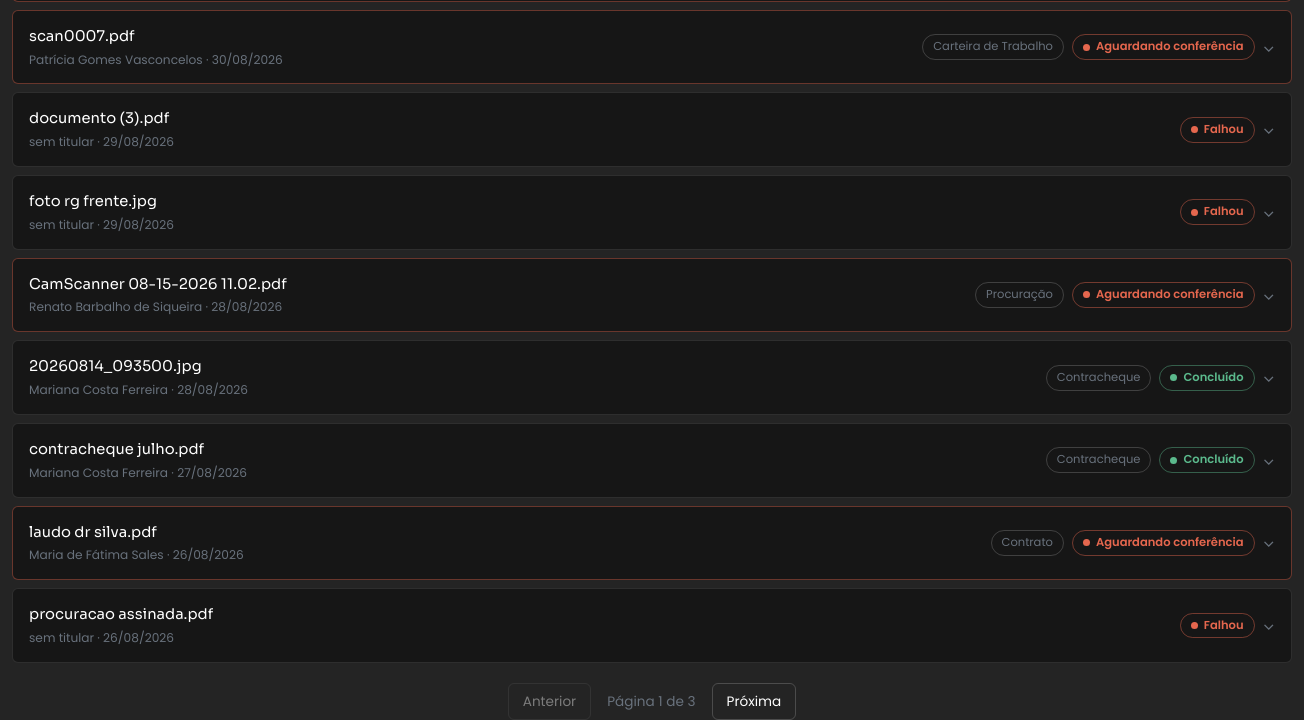
a paginação avança e volta
(page scrolled)
Expected: the text "Página 1 de 3" is shown, top-left (607, 691), bottom-right (696, 712)
Click the button "Próxima" at x=754, y=701, box top-left (712, 683), bottom-right (796, 719)
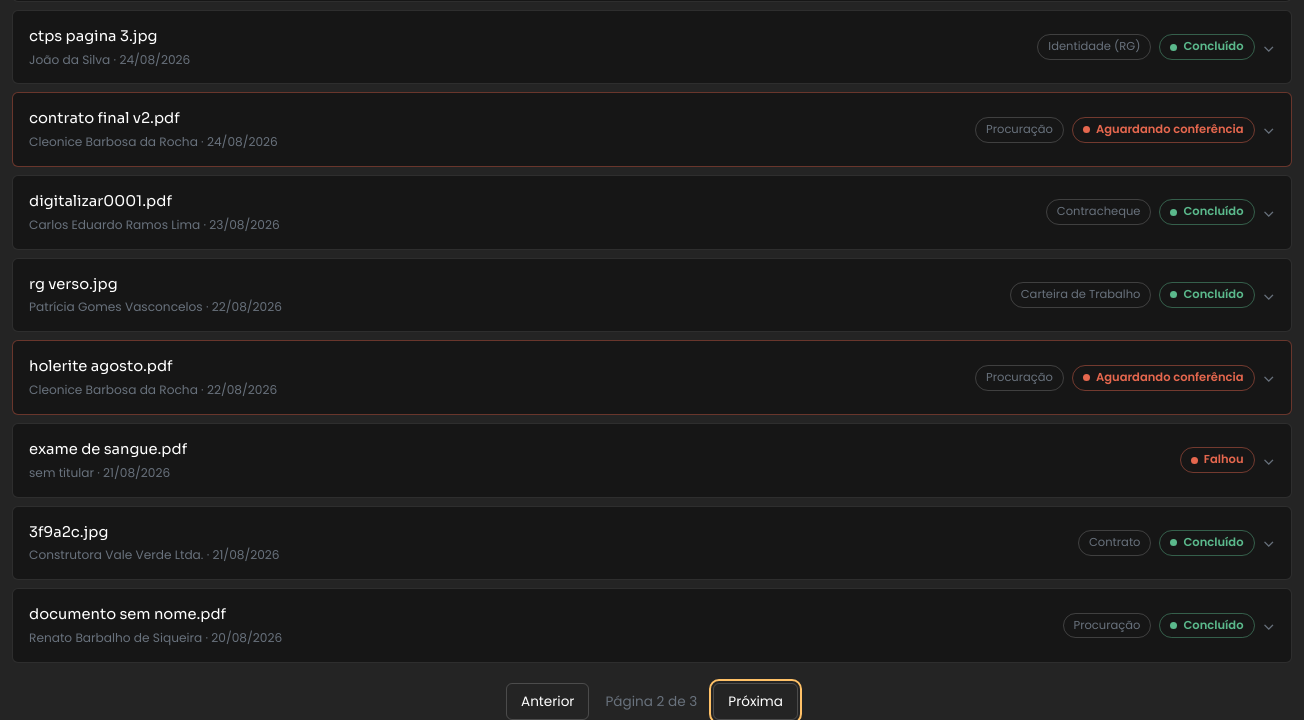
Now the text "Página 2 de 3" is shown, box top-left (605, 691), bottom-right (697, 712)
Click the button "Anterior" at x=548, y=701, box top-left (506, 683), bottom-right (589, 719)
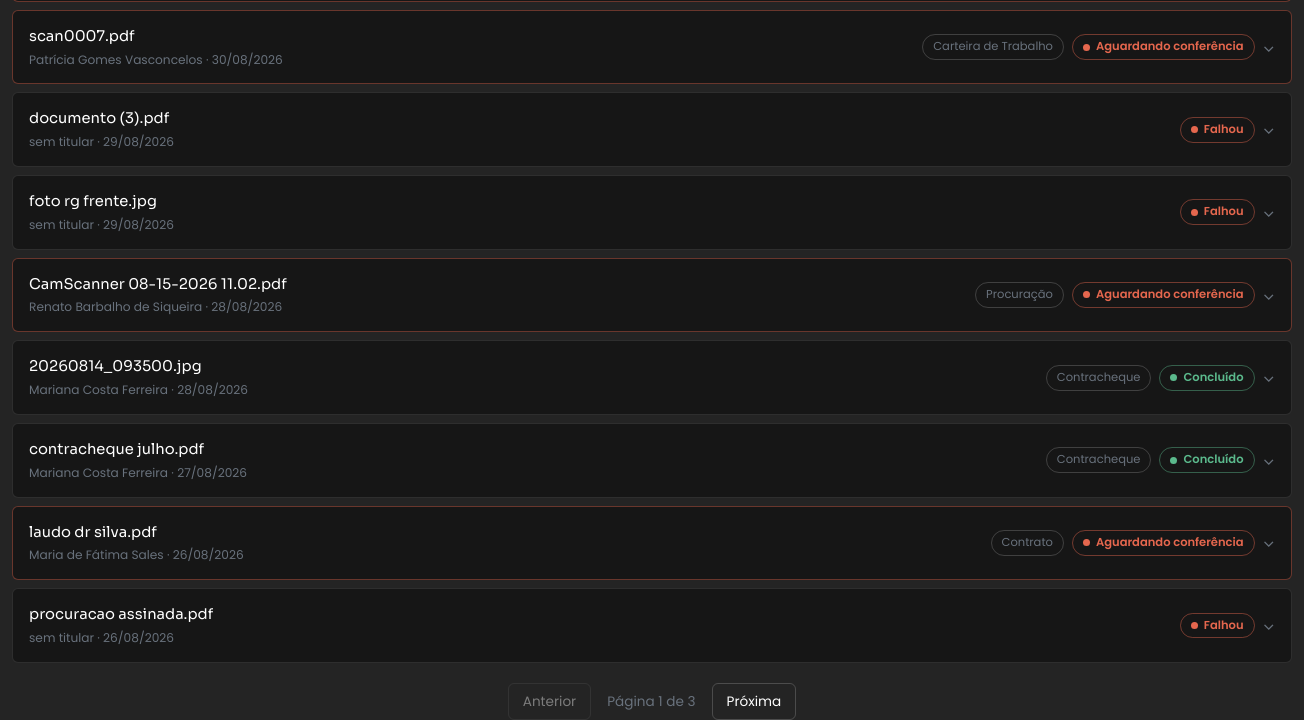
Now the text "Página 1 de 3" is shown, box top-left (607, 691), bottom-right (696, 712)
